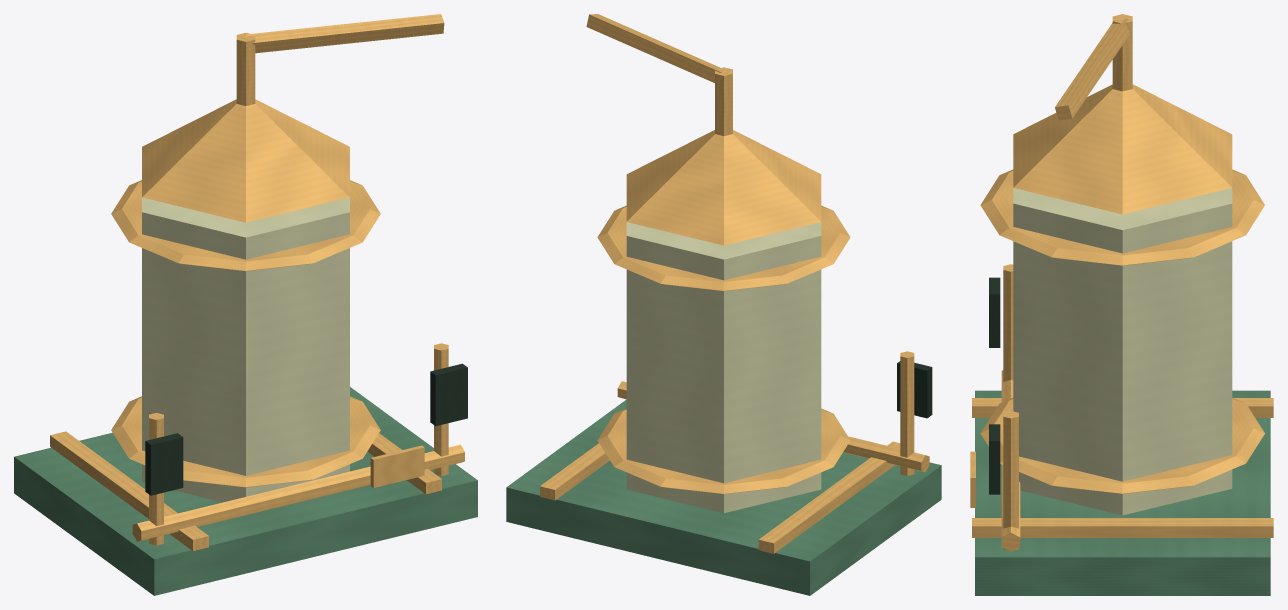
The model's file is atlas100-s006-a01.lod1.glb.
3 renders of one model, left to right at view 1: azimuth 30°, elevation 25°; view 2: azimuth 150°, elevation 25°; view 3: azimuth 270°, elevation 25°, orthographic. The views are drawn at different scales.
Visible parts, largest first — view 1: atlas100-s006-a01:part-003, atlas100-s006-a01:part-000, atlas100-s006-a01:part-007, atlas100-s006-a01:part-005, atlas100-s006-a01:part-004, atlas100-s006-a01:part-014, atlas100-s006-a01:part-009, atlas100-s006-a01:part-001, atlas100-s006-a01:part-011, atlas100-s006-a01:part-013, atlas100-s006-a01:part-015, atlas100-s006-a01:part-008 (+3 smaller); view 2: atlas100-s006-a01:part-003, atlas100-s006-a01:part-000, atlas100-s006-a01:part-007, atlas100-s006-a01:part-004, atlas100-s006-a01:part-005, atlas100-s006-a01:part-001, atlas100-s006-a01:part-009, atlas100-s006-a01:part-010, atlas100-s006-a01:part-002, atlas100-s006-a01:part-014, atlas100-s006-a01:part-008, atlas100-s006-a01:part-011; view 3: atlas100-s006-a01:part-003, atlas100-s006-a01:part-000, atlas100-s006-a01:part-007, atlas100-s006-a01:part-005, atlas100-s006-a01:part-004, atlas100-s006-a01:part-002, atlas100-s006-a01:part-009, atlas100-s006-a01:part-012, atlas100-s006-a01:part-010, atlas100-s006-a01:part-008, atlas100-s006-a01:part-001, atlas100-s006-a01:part-014 (+2 smaller).
Boxes of the visible parts, x1=… form: atlas100-s006-a01:part-003: x1=142, y1=197, x2=349, y2=502; atlas100-s006-a01:part-000: x1=14, y1=387, x2=477, y2=595; atlas100-s006-a01:part-007: x1=142, y1=99, x2=349, y2=222; atlas100-s006-a01:part-005: x1=111, y1=180, x2=380, y2=271; atlas100-s006-a01:part-004: x1=111, y1=396, x2=380, y2=487; atlas100-s006-a01:part-014: x1=132, y1=444, x2=464, y2=541; atlas100-s006-a01:part-009: x1=245, y1=14, x2=444, y2=53; atlas100-s006-a01:part-001: x1=50, y1=431, x2=208, y2=550; atlas100-s006-a01:part-011: x1=145, y1=433, x2=183, y2=495; atlas100-s006-a01:part-013: x1=430, y1=363, x2=467, y2=425; atlas100-s006-a01:part-015: x1=370, y1=445, x2=424, y2=487; atlas100-s006-a01:part-008: x1=236, y1=33, x2=255, y2=105; atlas100-s006-a01:part-003: x1=626, y1=222, x2=821, y2=513; atlas100-s006-a01:part-000: x1=506, y1=399, x2=941, y2=595; atlas100-s006-a01:part-007: x1=626, y1=130, x2=821, y2=245; atlas100-s006-a01:part-004: x1=597, y1=408, x2=850, y2=493; atlas100-s006-a01:part-005: x1=597, y1=205, x2=850, y2=291; atlas100-s006-a01:part-001: x1=758, y1=441, x2=900, y2=553; atlas100-s006-a01:part-009: x1=586, y1=14, x2=722, y2=82; atlas100-s006-a01:part-010: x1=900, y1=351, x2=914, y2=475; atlas100-s006-a01:part-002: x1=540, y1=443, x2=609, y2=500; atlas100-s006-a01:part-014: x1=617, y1=381, x2=929, y2=472; atlas100-s006-a01:part-008: x1=715, y1=67, x2=732, y2=135; atlas100-s006-a01:part-011: x1=897, y1=361, x2=932, y2=418; atlas100-s006-a01:part-003: x1=1013, y1=188, x2=1232, y2=515; atlas100-s006-a01:part-000: x1=975, y1=390, x2=1270, y2=595; atlas100-s006-a01:part-007: x1=1013, y1=84, x2=1232, y2=214; atlas100-s006-a01:part-005: x1=980, y1=169, x2=1264, y2=265; atlas100-s006-a01:part-004: x1=980, y1=397, x2=1264, y2=493; atlas100-s006-a01:part-002: x1=972, y1=518, x2=1273, y2=537; atlas100-s006-a01:part-009: x1=1055, y1=18, x2=1129, y2=120; atlas100-s006-a01:part-012: x1=1003, y1=411, x2=1018, y2=549; atlas100-s006-a01:part-010: x1=1003, y1=264, x2=1013, y2=381; atlas100-s006-a01:part-008: x1=1112, y1=14, x2=1132, y2=91; atlas100-s006-a01:part-001: x1=972, y1=398, x2=1273, y2=417; atlas100-s006-a01:part-014: x1=1001, y1=370, x2=1020, y2=551.
Size of the model in its own units: 2.46 by 3.32 by 1.85.
5 materials, 5 textured.
